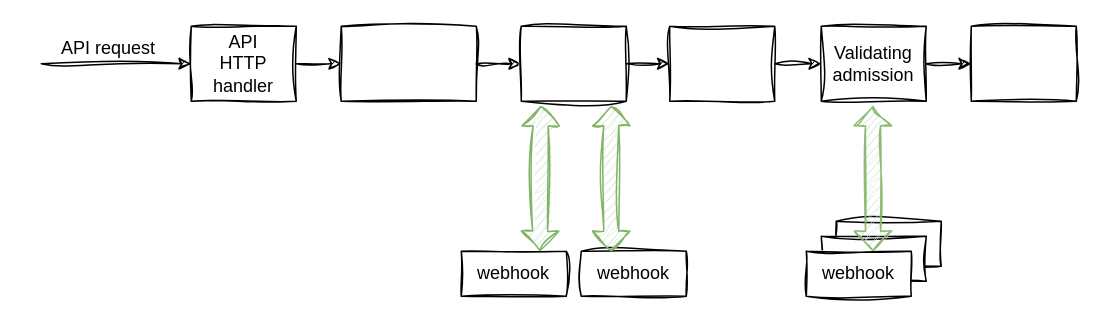
Image size: 1103x323. Some labels were removed from this diagram. Here are the shapes that lost their labels. From the top down, the centre of each, then its label:
(408,63): Authentication Authorization
(573,63): Mutating admission
(721,63): Object Schema Validation
(1023,63): Persisted to etcd
